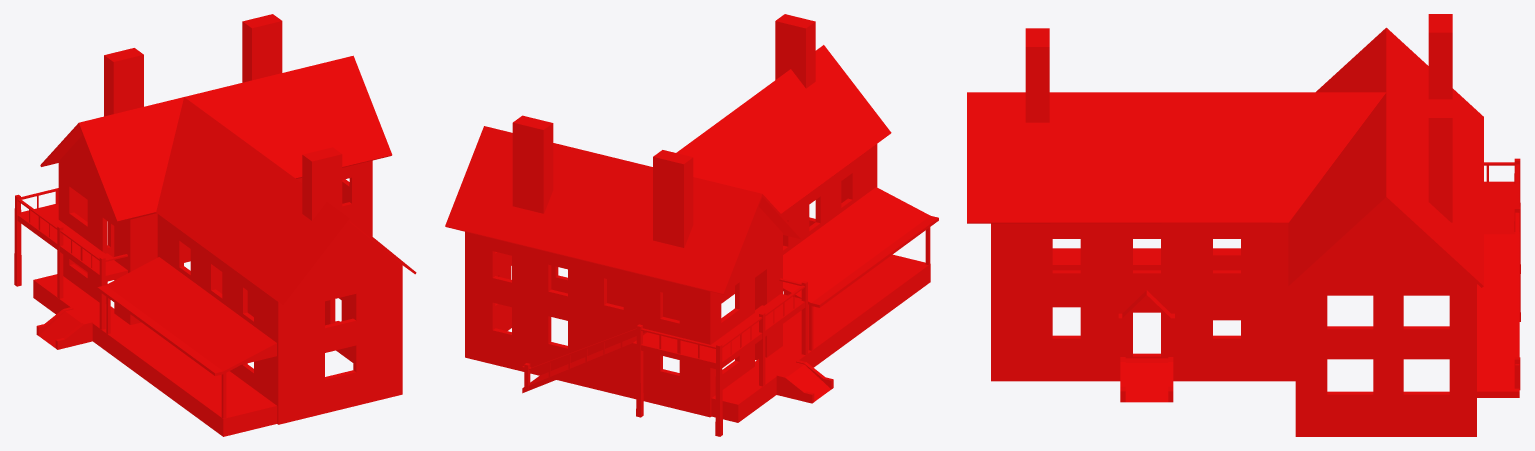
3 views of the same model, side by side, from view 1: azimuth 30°, elevation 25°; view 2: azimuth 150°, elevation 25°; view 3: azimuth 270°, elevation 25° (orthographic). The views are drawn at different scales.
Visible parts, largest first — view 1: house_suburbs1_col; view 2: house_suburbs1_col; view 3: house_suburbs1_col.
Boxes of the visible parts, bbox=[...] form: house_suburbs1_col: bbox=[14, 14, 416, 436]; house_suburbs1_col: bbox=[445, 14, 938, 436]; house_suburbs1_col: bbox=[967, 14, 1520, 436].
Bounding box in the file's own units: 23.86 × 17.55 × 28.25.
